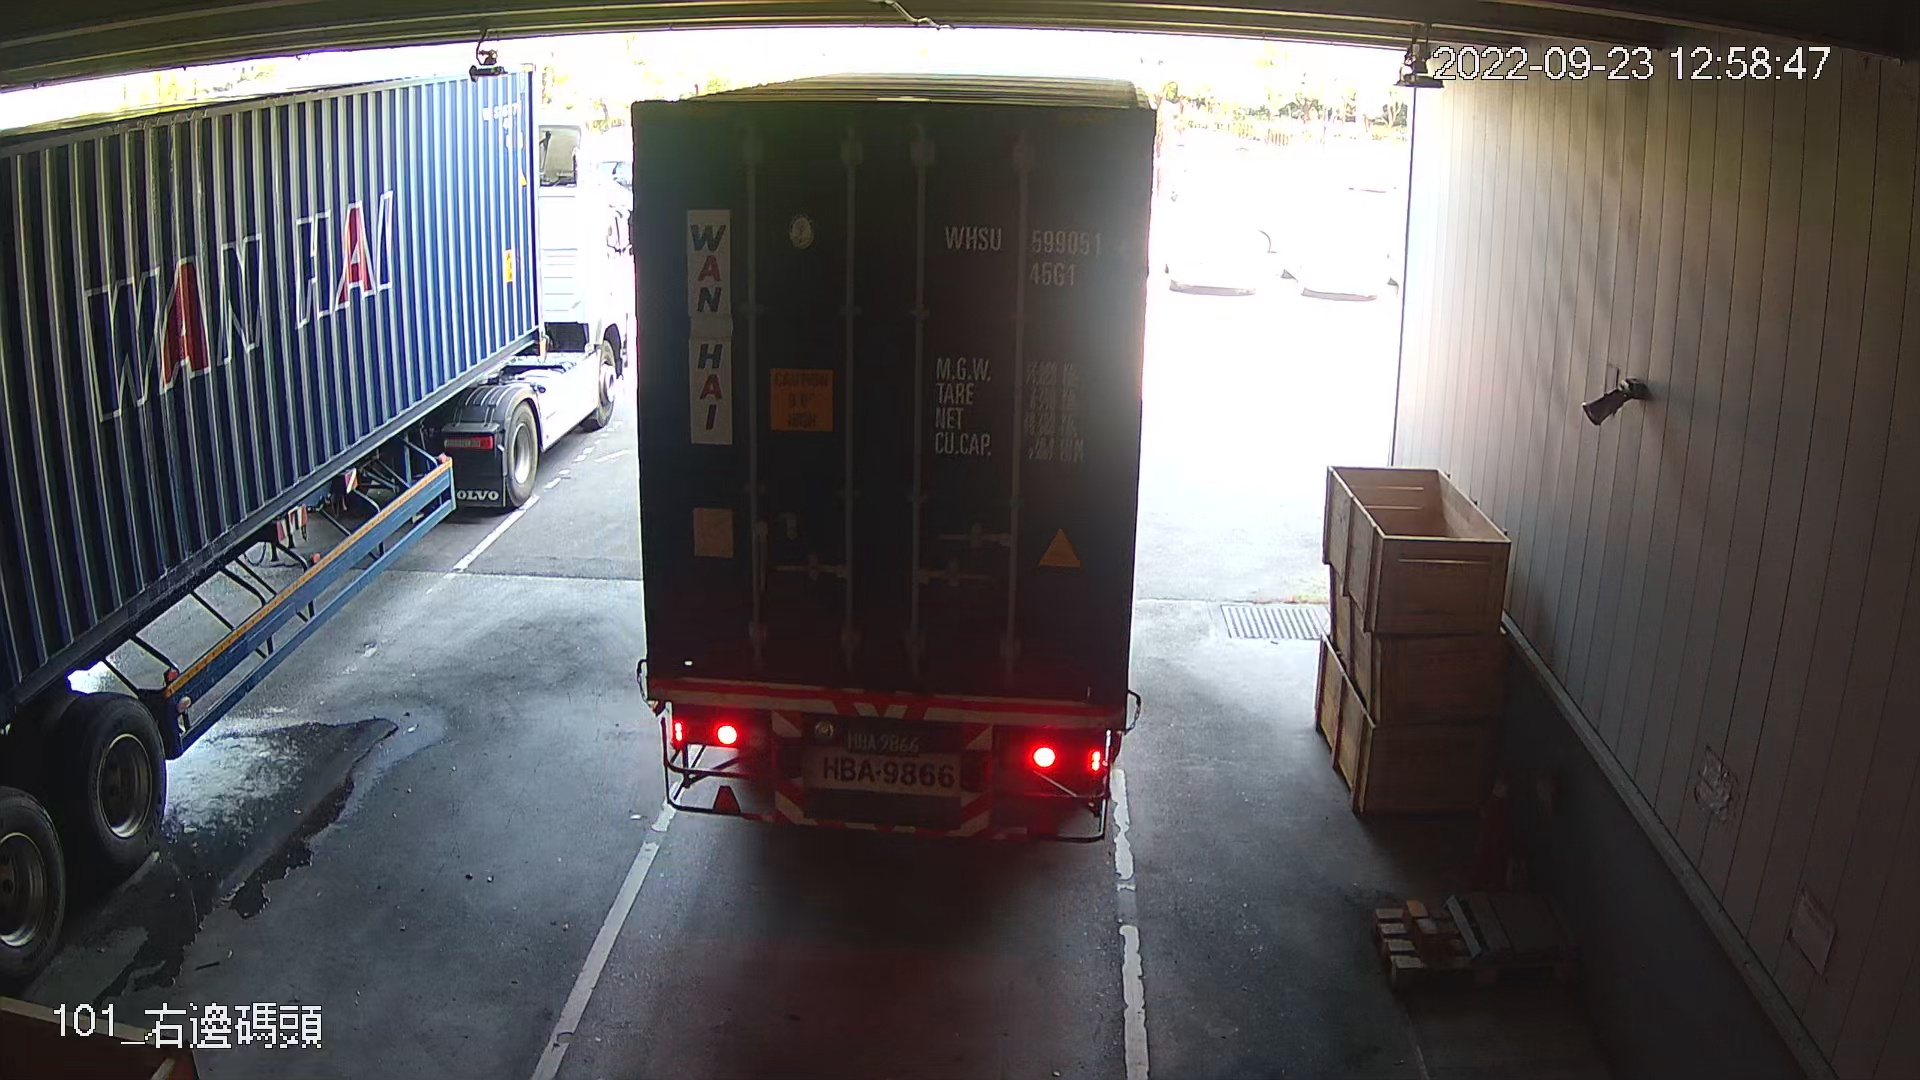container: (935, 211, 1142, 298)
